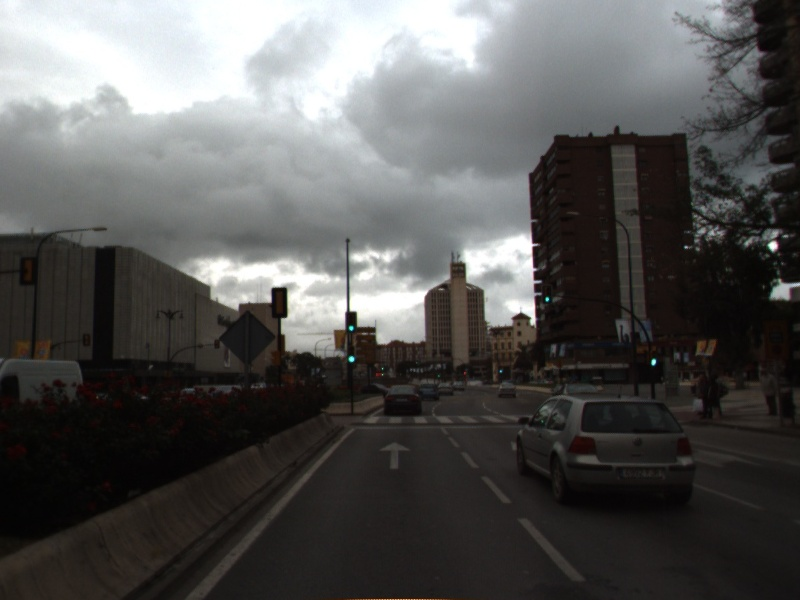STRAIGHT: (377, 439, 414, 471)
